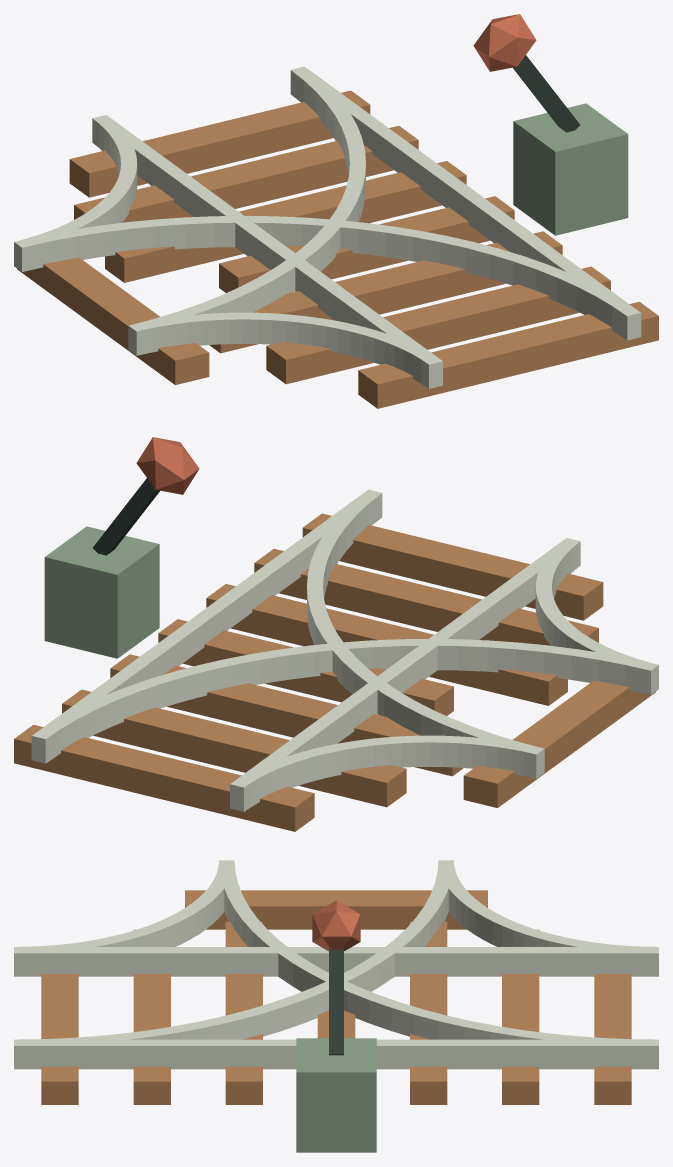
File: rail-t_left.glb
The picture shows the model from 3 angles, top to bottom: view 1: azimuth 30°, elevation 25°; view 2: azimuth 150°, elevation 25°; view 3: azimuth 270°, elevation 25°; orthographic projection. The views are drawn at different scales.
Parts seen in each view (by area): view 1: Mesh_rail-t_left_wood, Connected steel rails, Switch housing, Lever knob, Lever; view 2: Mesh_rail-t_left_wood, Connected steel rails, Switch housing, Lever knob, Lever; view 3: Connected steel rails, Mesh_rail-t_left_wood, Switch housing, Lever knob, Lever.
Part boxes in pixels (left/top/right/bottom): Mesh_rail-t_left_wood: left=17, top=90, right=658, bottom=408; Connected steel rails: left=14, top=66, right=641, bottom=388; Switch housing: left=513, top=103, right=628, bottom=235; Lever knob: left=473, top=14, right=536, bottom=71; Lever: left=513, top=55, right=579, bottom=132; Mesh_rail-t_left_wood: left=14, top=513, right=655, bottom=831; Connected steel rails: left=31, top=489, right=658, bottom=811; Switch housing: left=44, top=526, right=159, bottom=658; Lever knob: left=136, top=437, right=199, bottom=494; Lever: left=93, top=478, right=159, bottom=555; Connected steel rails: left=14, top=860, right=658, bottom=1069; Mesh_rail-t_left_wood: left=41, top=890, right=631, bottom=1104; Switch housing: left=296, top=1038, right=376, bottom=1152; Lever knob: left=312, top=900, right=360, bottom=951; Lever: left=329, top=948, right=343, bottom=1055.
Bounding box in the file's own units: 0.9125 × 0.344 × 1.
